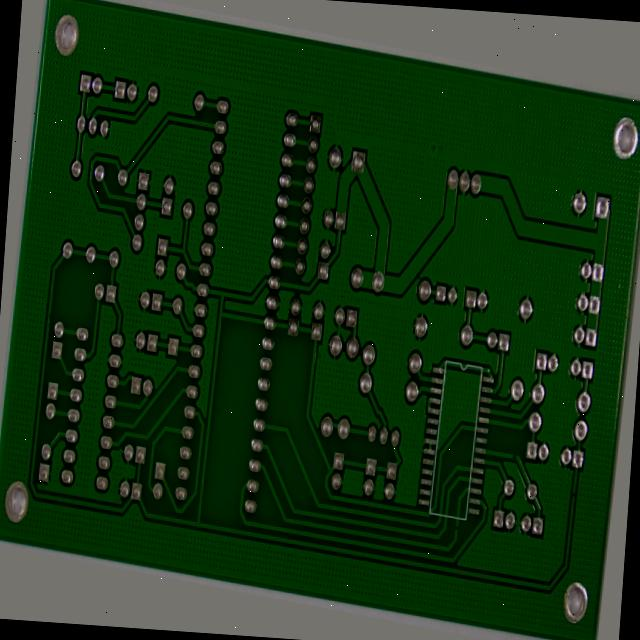open_circuit: (522, 437, 533, 452), (465, 526, 473, 541), (586, 472, 593, 485)
